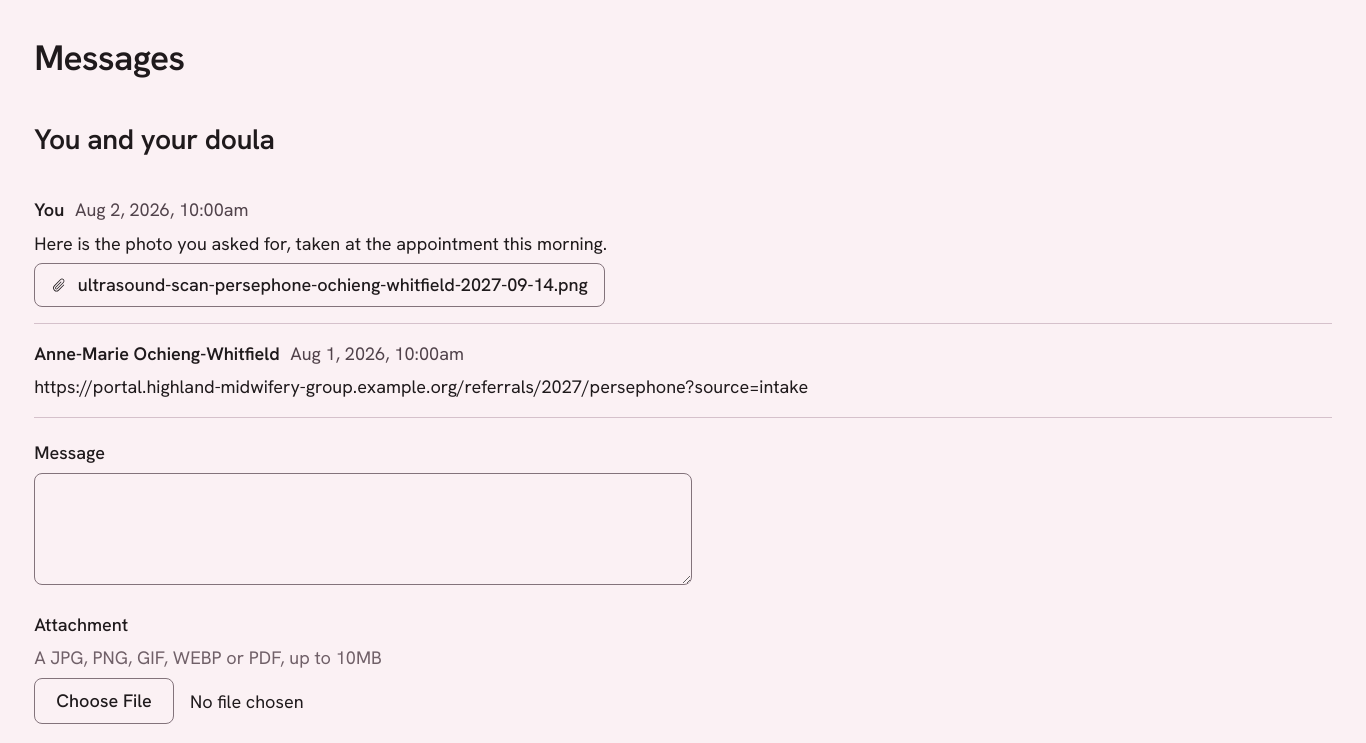
Test case: The Client-portal message thread, after Send (#2210) › names "your doula" when the Practice name is not known
Type "Did that go through?" into the text box labelled "Message". click: (363, 529)
box: left=34, top=472, right=692, bottom=585
(page scrolled)
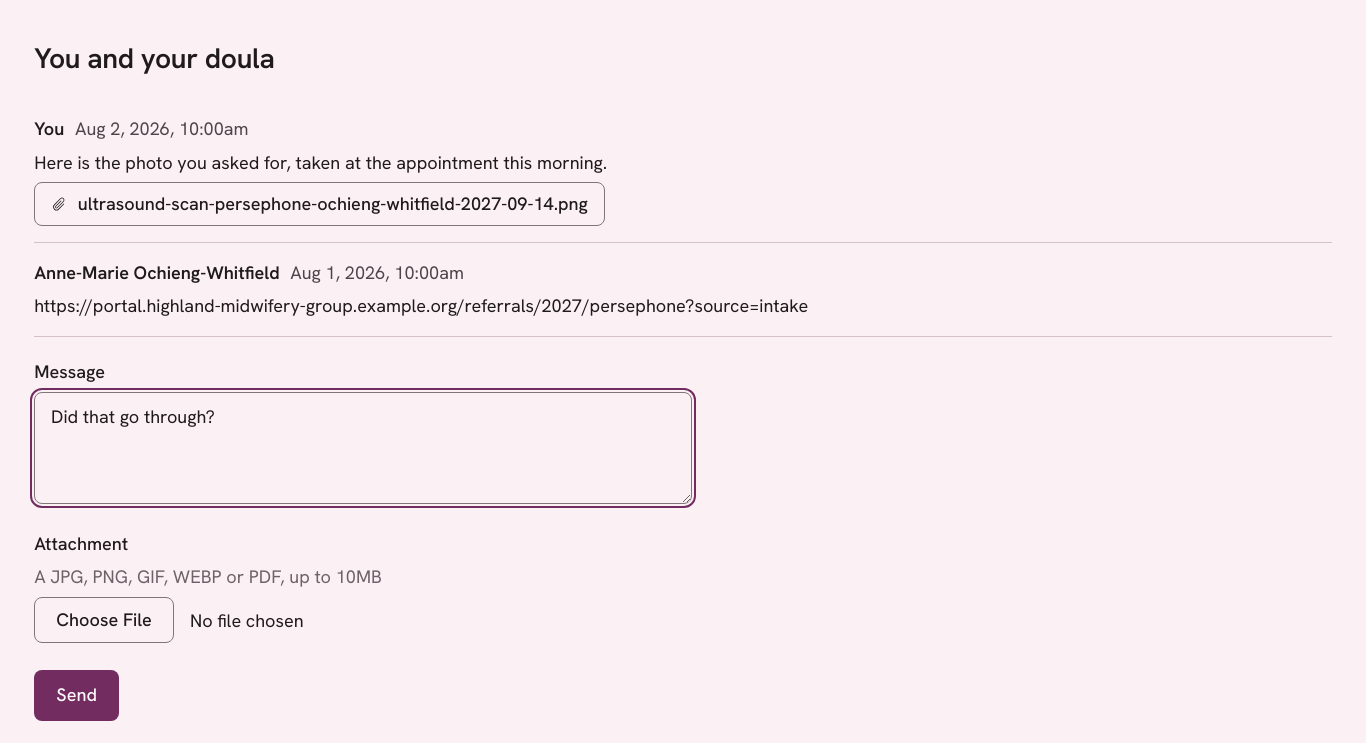
Click the button "Send". click: click(77, 695)
box: left=34, top=670, right=119, bottom=721
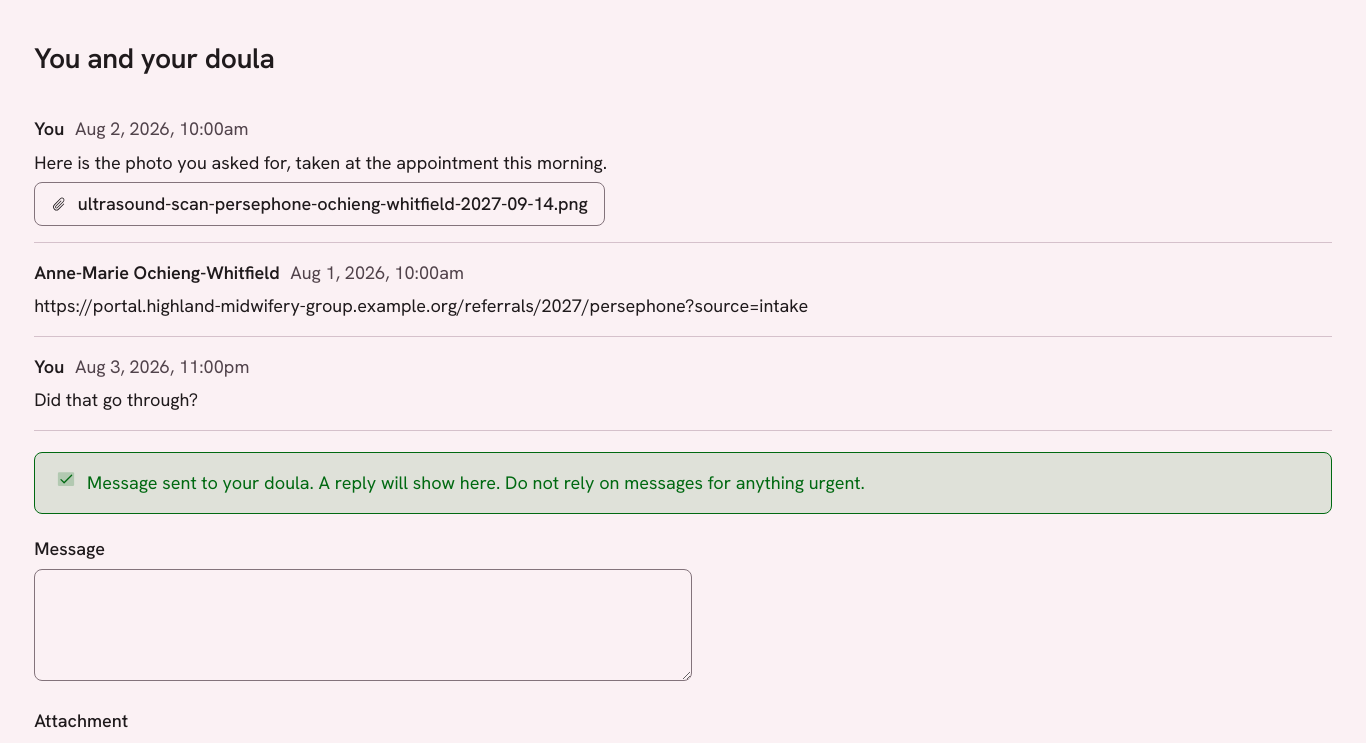
Result: the message shows "Message sent to your doula." at left=87, top=471, right=865, bottom=494
